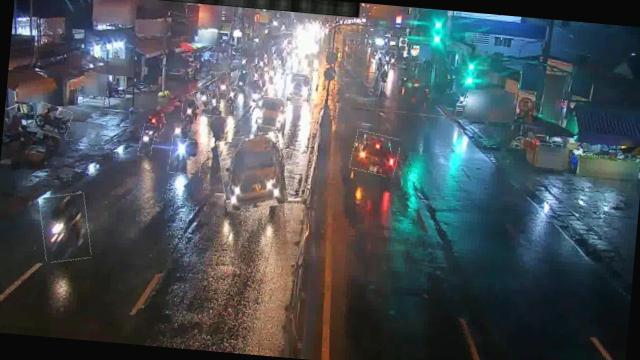Bike: (36, 192, 94, 264), (33, 103, 73, 138), (168, 138, 203, 176), (206, 115, 234, 143), (138, 125, 156, 157), (180, 98, 197, 128), (148, 104, 165, 132), (214, 71, 230, 93), (193, 90, 210, 110), (208, 89, 221, 114), (235, 70, 248, 90), (226, 86, 238, 106), (250, 64, 260, 82)
Car: (214, 130, 290, 214), (350, 131, 400, 176), (252, 96, 288, 130), (286, 73, 314, 99)
